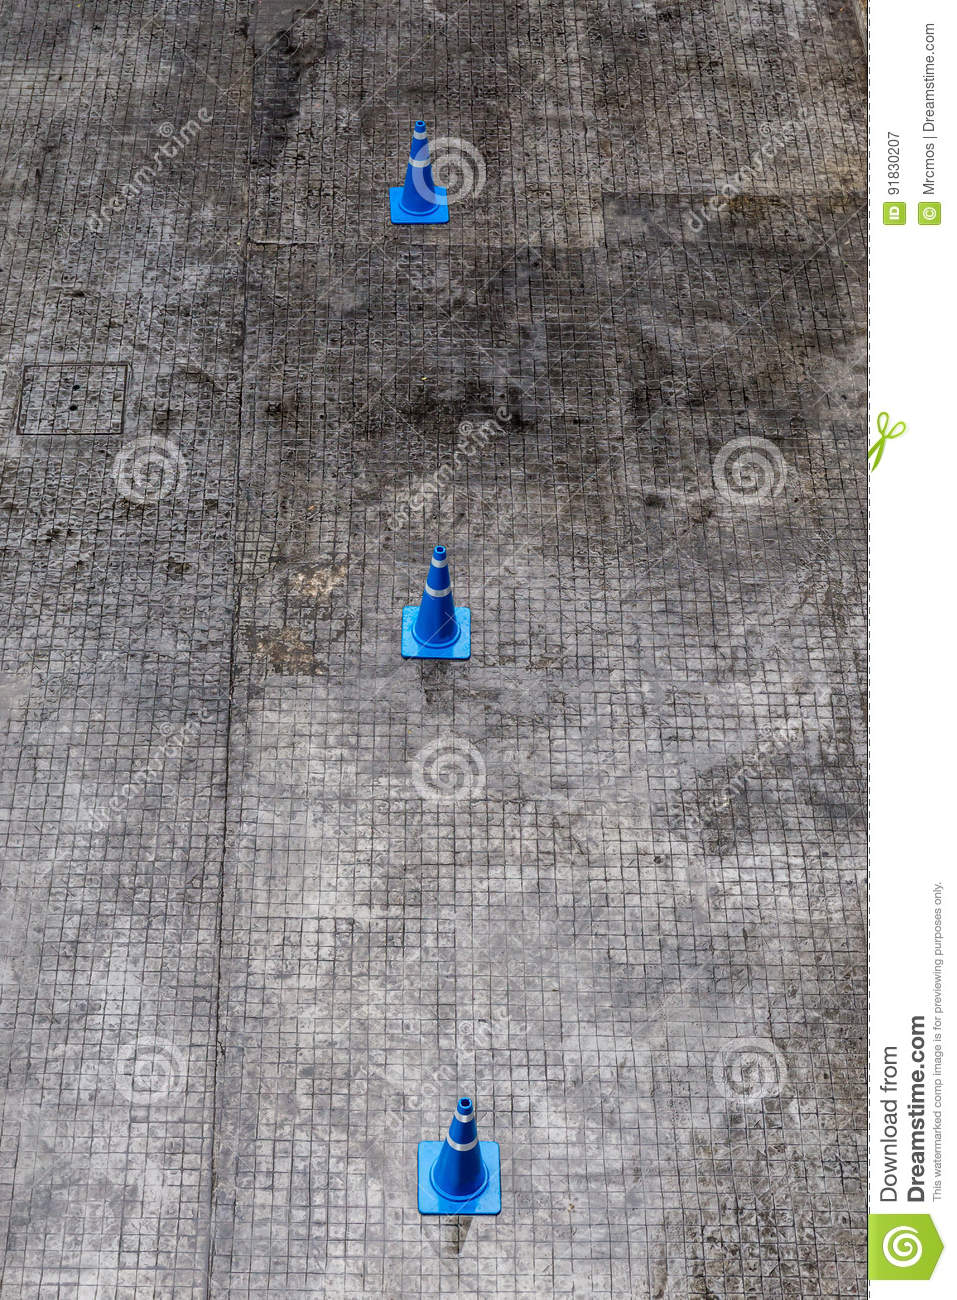cone: (415, 1096, 506, 1223), (400, 545, 475, 663), (380, 116, 457, 227)
